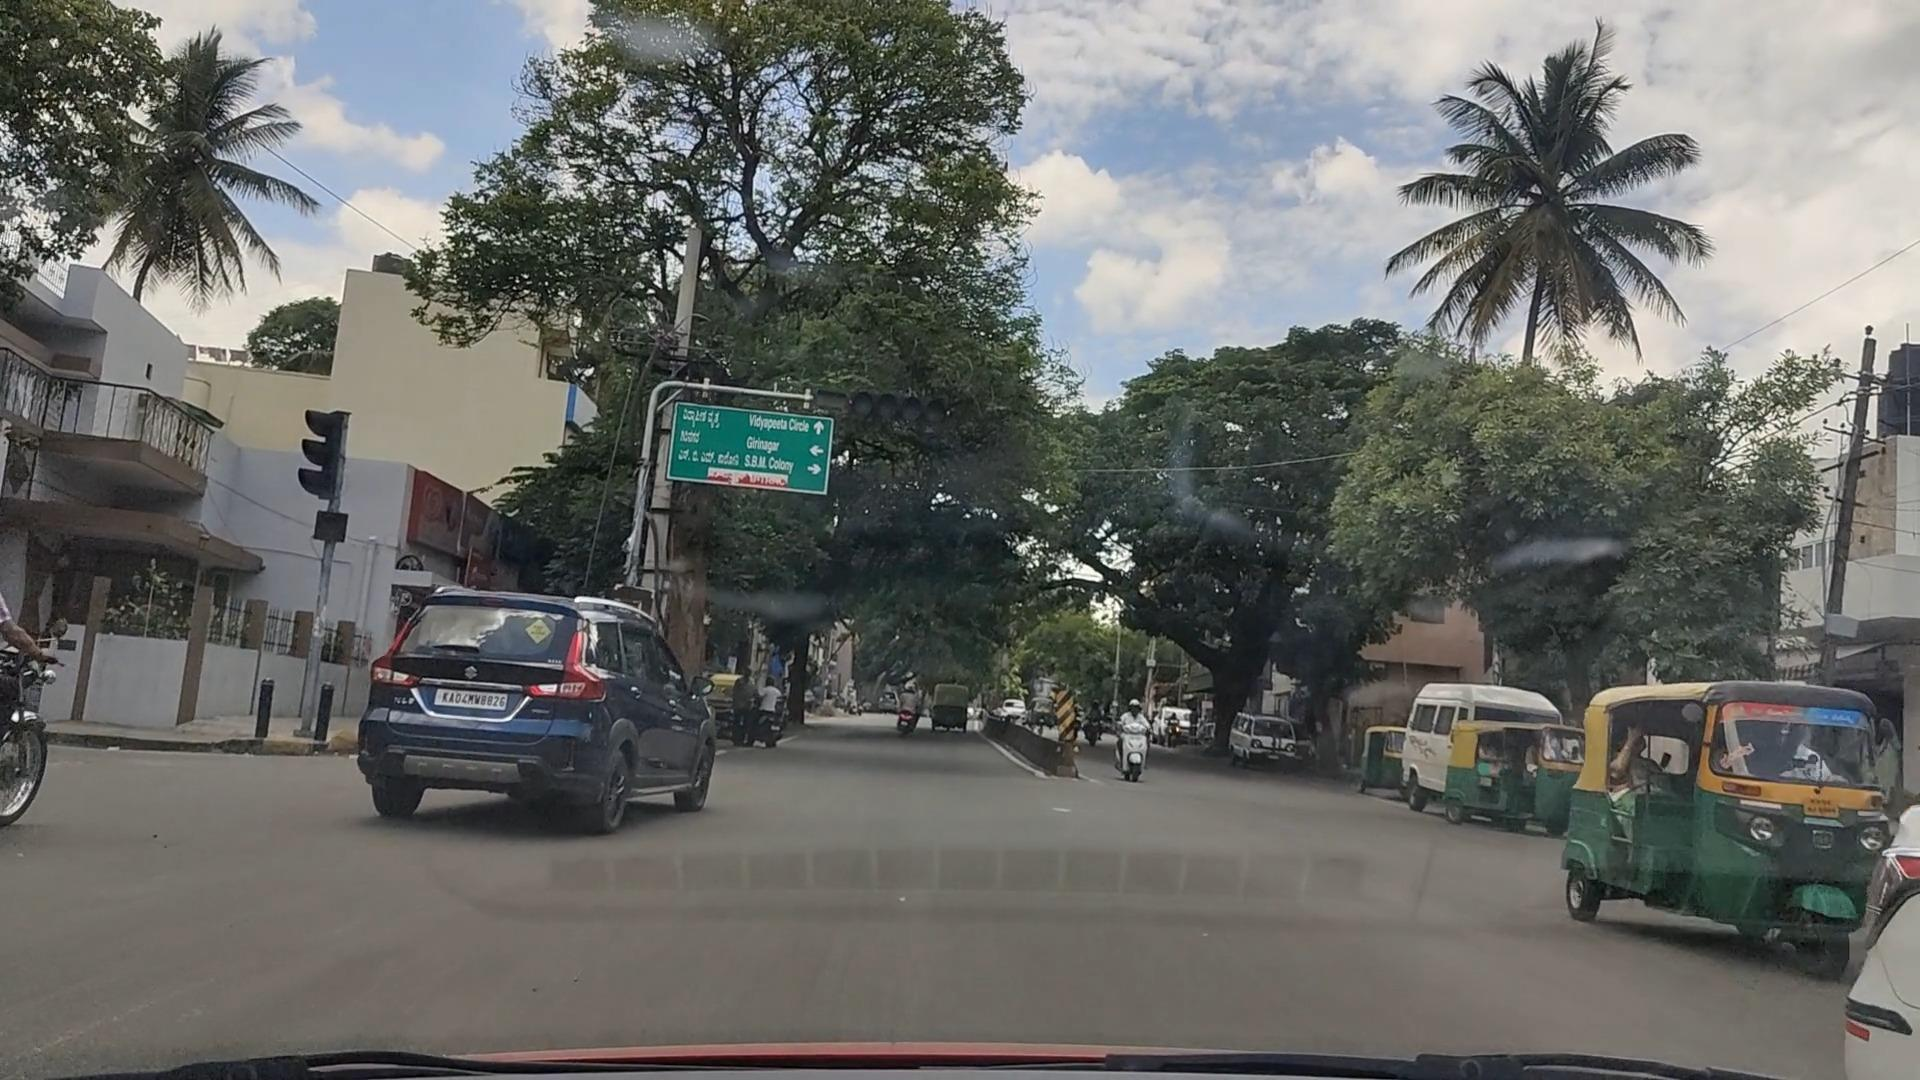LMV: (378, 603, 732, 866)
